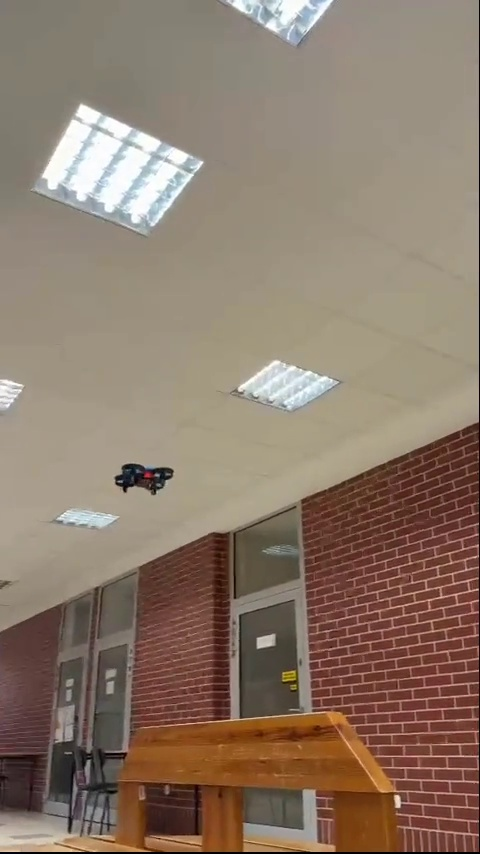drone: (112, 465, 173, 499)
